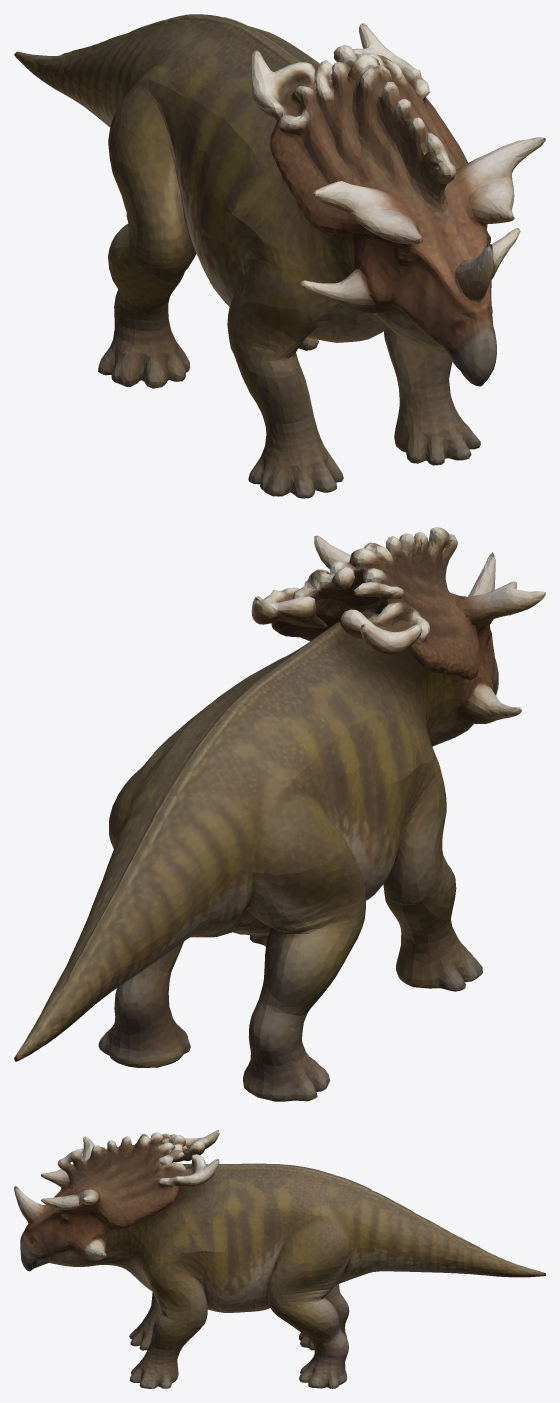
3 renders of one model, top to bottom at view 1: azimuth 30°, elevation 25°; view 2: azimuth 150°, elevation 25°; view 3: azimuth 270°, elevation 25°, orthographic. The views are drawn at different scales.
Visible parts, largest first — view 1: world; view 2: world; view 3: world.
Boxes of the visible parts, <box> form: world: <box>14,14,545,498</box>; world: <box>14,527,545,1101</box>; world: <box>14,1130,545,1388</box>.
Size of the model in its own units: 1.26 by 2.13 by 4.5.
1 material, 1 textured.
